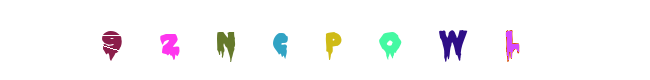2: (186, 0, 266, 80)
9: (71, 0, 151, 80)
C: (273, 0, 353, 80)
L: (412, 0, 492, 80)
N: (247, 0, 327, 80)
O: (323, 0, 403, 80)
P: (285, 0, 365, 80)
W: (350, 0, 430, 80)
